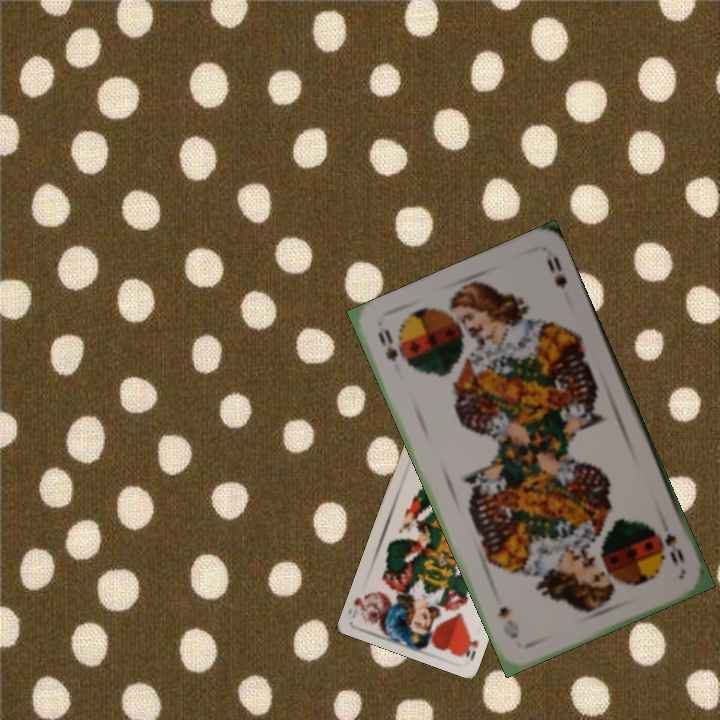HO: (457, 628, 481, 663)
SO: (653, 528, 688, 569), (373, 325, 401, 364)
